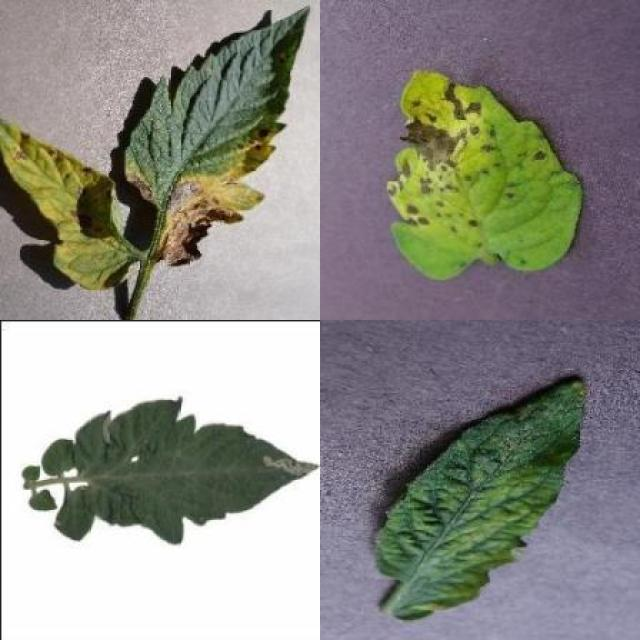Early Blight: (124, 5, 310, 268)
Leaf Miner: (71, 397, 320, 550)
Mosaic Virus: (375, 378, 588, 625)
Septoria: (388, 67, 585, 283)
